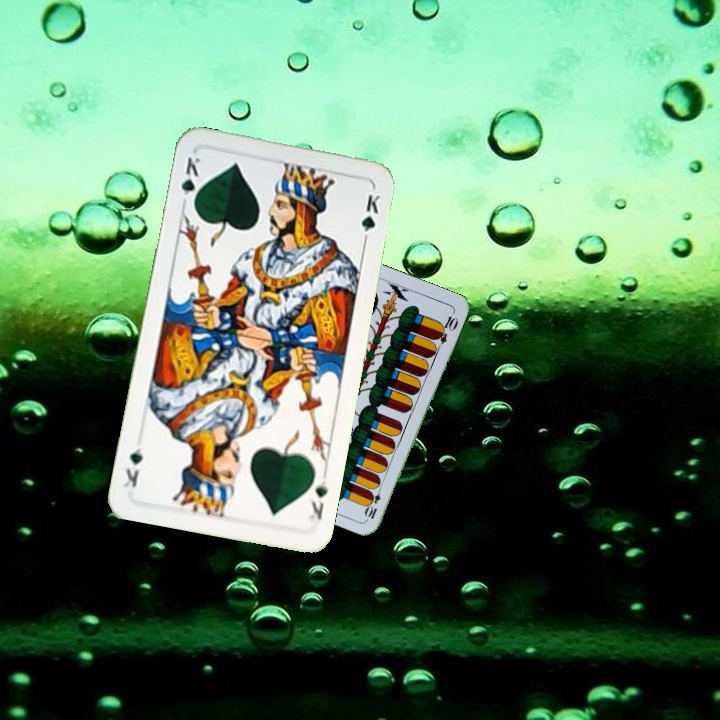E10: (362, 481, 384, 521)
GK: (177, 152, 203, 210), (305, 470, 330, 523)
